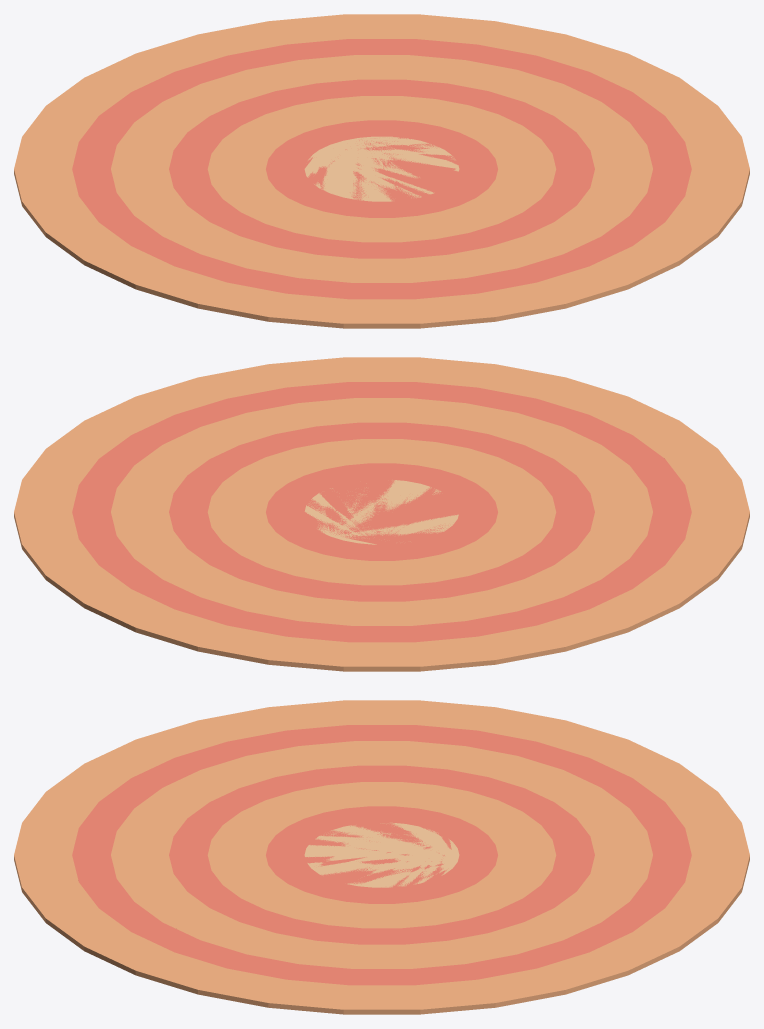
Rendered from halkalar (2).fbx.
3 views of the same model, one above another, from view 1: azimuth 30°, elevation 25°; view 2: azimuth 150°, elevation 25°; view 3: azimuth 270°, elevation 25° (orthographic).
Visible parts, largest first — view 1: Cylinder.043, Cylinder.041, Cylinder.042, Cylinder.039, Cylinder.040, Cylinder.038, Cylinder.037; view 2: Cylinder.043, Cylinder.041, Cylinder.042, Cylinder.039, Cylinder.040, Cylinder.038, Cylinder.037; view 3: Cylinder.043, Cylinder.041, Cylinder.042, Cylinder.039, Cylinder.040, Cylinder.038, Cylinder.037.
Boxes of the visible parts, x1=… form: Cylinder.043: x1=14, y1=14, x2=749, y2=328; Cylinder.041: x1=111, y1=55, x2=652, y2=282; Cylinder.042: x1=72, y1=39, x2=691, y2=299; Cylinder.039: x1=207, y1=96, x2=556, y2=242; Cylinder.040: x1=169, y1=79, x2=594, y2=258; Cylinder.038: x1=266, y1=120, x2=497, y2=217; Cylinder.037: x1=304, y1=136, x2=459, y2=201; Cylinder.043: x1=14, y1=357, x2=749, y2=671; Cylinder.041: x1=111, y1=398, x2=652, y2=625; Cylinder.042: x1=72, y1=382, x2=691, y2=642; Cylinder.039: x1=207, y1=439, x2=556, y2=585; Cylinder.040: x1=169, y1=422, x2=594, y2=601; Cylinder.038: x1=266, y1=463, x2=497, y2=560; Cylinder.037: x1=304, y1=480, x2=458, y2=544; Cylinder.043: x1=14, y1=700, x2=749, y2=1014; Cylinder.041: x1=111, y1=741, x2=652, y2=968; Cylinder.042: x1=72, y1=725, x2=691, y2=985; Cylinder.039: x1=207, y1=782, x2=556, y2=928; Cylinder.040: x1=169, y1=765, x2=594, y2=944; Cylinder.038: x1=266, y1=806, x2=497, y2=903; Cylinder.037: x1=304, y1=822, x2=459, y2=887.
Size of the model in its own units: 13944 by 100 by 14021.
